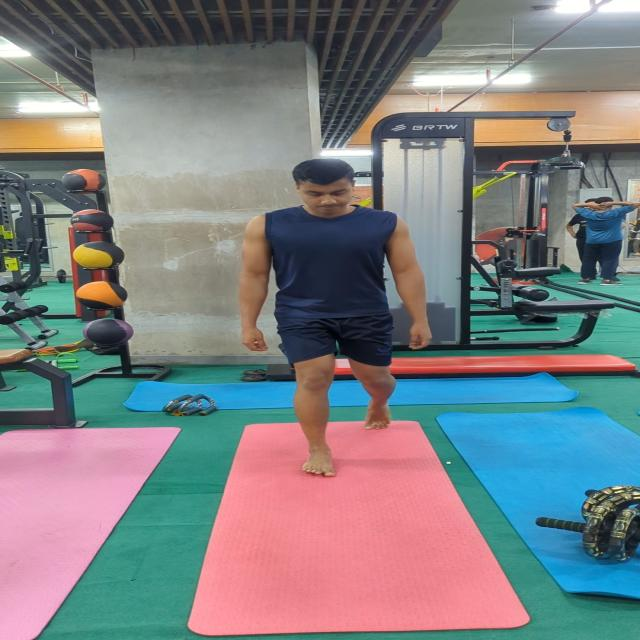Normal_Lunges: (221, 157, 437, 484)
